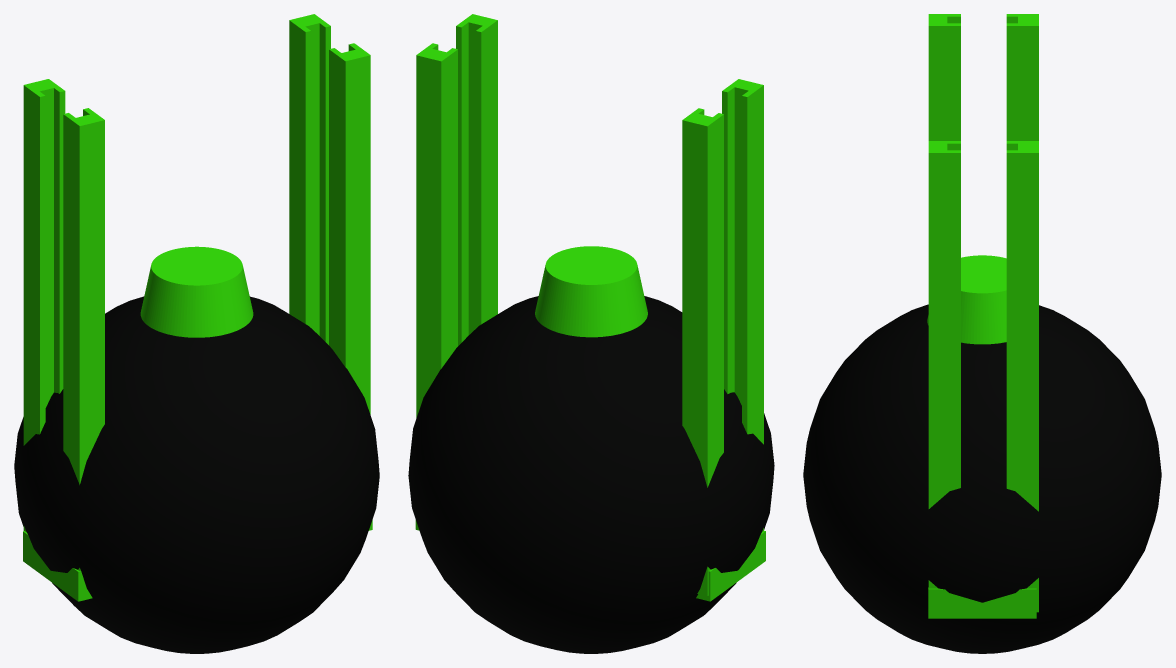
The model's file is Whepon.fbx.
The picture shows the model from 3 angles, left to right: view 1: azimuth 30°, elevation 25°; view 2: azimuth 150°, elevation 25°; view 3: azimuth 270°, elevation 25°; orthographic projection. The views are drawn at different scales.
Parts seen in each view (by area): view 1: Sphere, Cube.005, Cube.002, Cone.001; view 2: Sphere, Cube.005, Cube.002, Cone.001; view 3: Sphere, Cube.002, Cube.005, Cone.001.
Part boxes in pixels (x1,y1,x2,y2): Sphere: [14, 296, 379, 653]; Cube.005: [23, 79, 104, 601]; Cube.002: [289, 14, 372, 530]; Cone.001: [140, 246, 253, 337]; Sphere: [408, 296, 774, 653]; Cube.005: [682, 79, 765, 601]; Cube.002: [415, 14, 497, 530]; Cone.001: [535, 246, 647, 337]; Sphere: [803, 304, 1161, 653]; Cube.002: [928, 141, 1038, 618]; Cube.005: [928, 14, 1038, 140]; Cone.001: [927, 255, 1006, 344].
Bounding box in the file's own units: 200 × 341 × 200.
